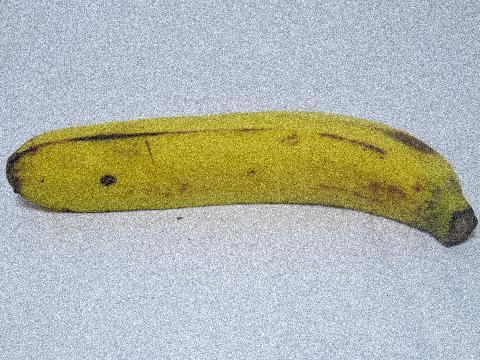ripe: (0, 92, 479, 262)
